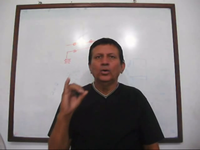oi: (60, 77, 89, 113)
